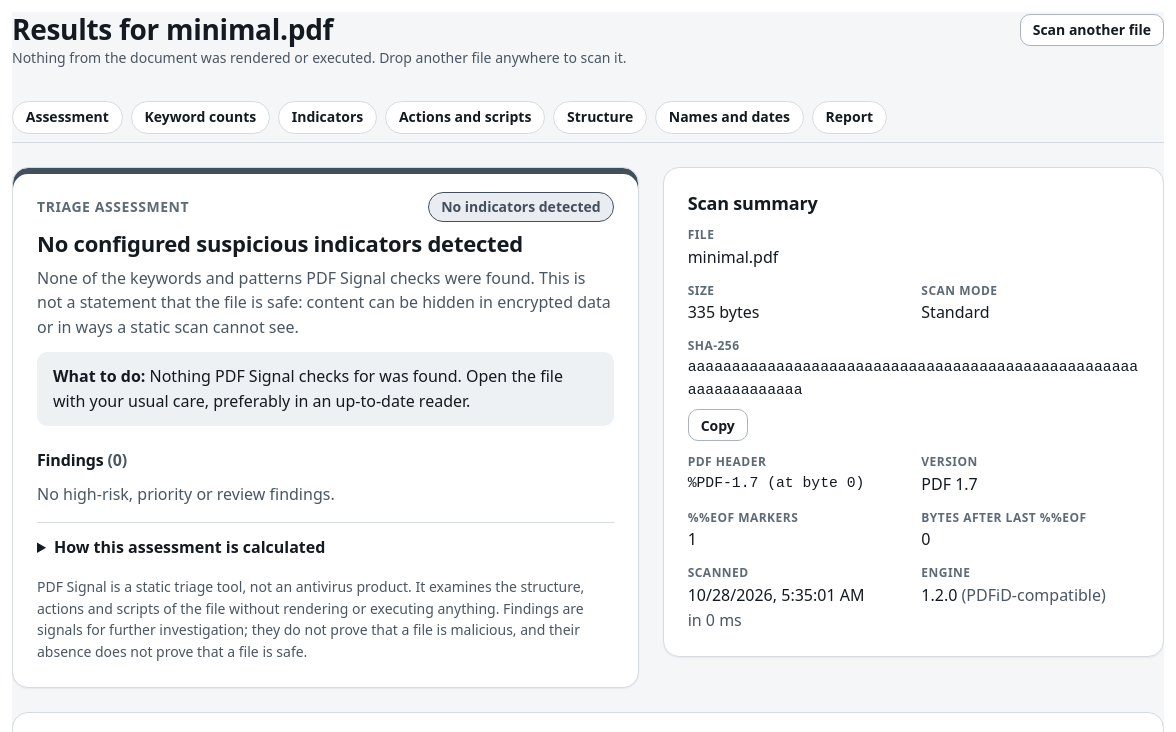
Test: threat highlighting › explains when copying is unavailable
This screenshot has width=1176, height=732.
Click the button with aria-label "Copy SHA-256 hash". click: (718, 426)
box: x1=688 y1=410 x2=748 y2=442
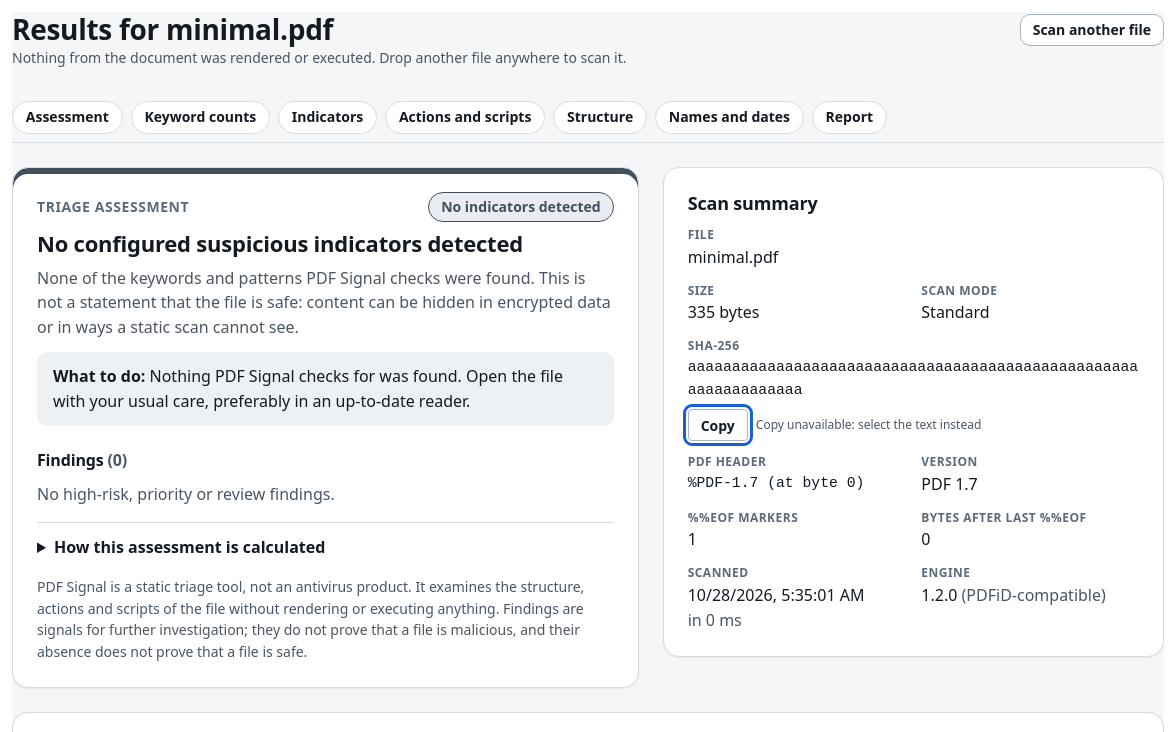
Expected: the text "Copy unavailable: select the text instead" is shown, x1=756 y1=416 x2=981 y2=435
